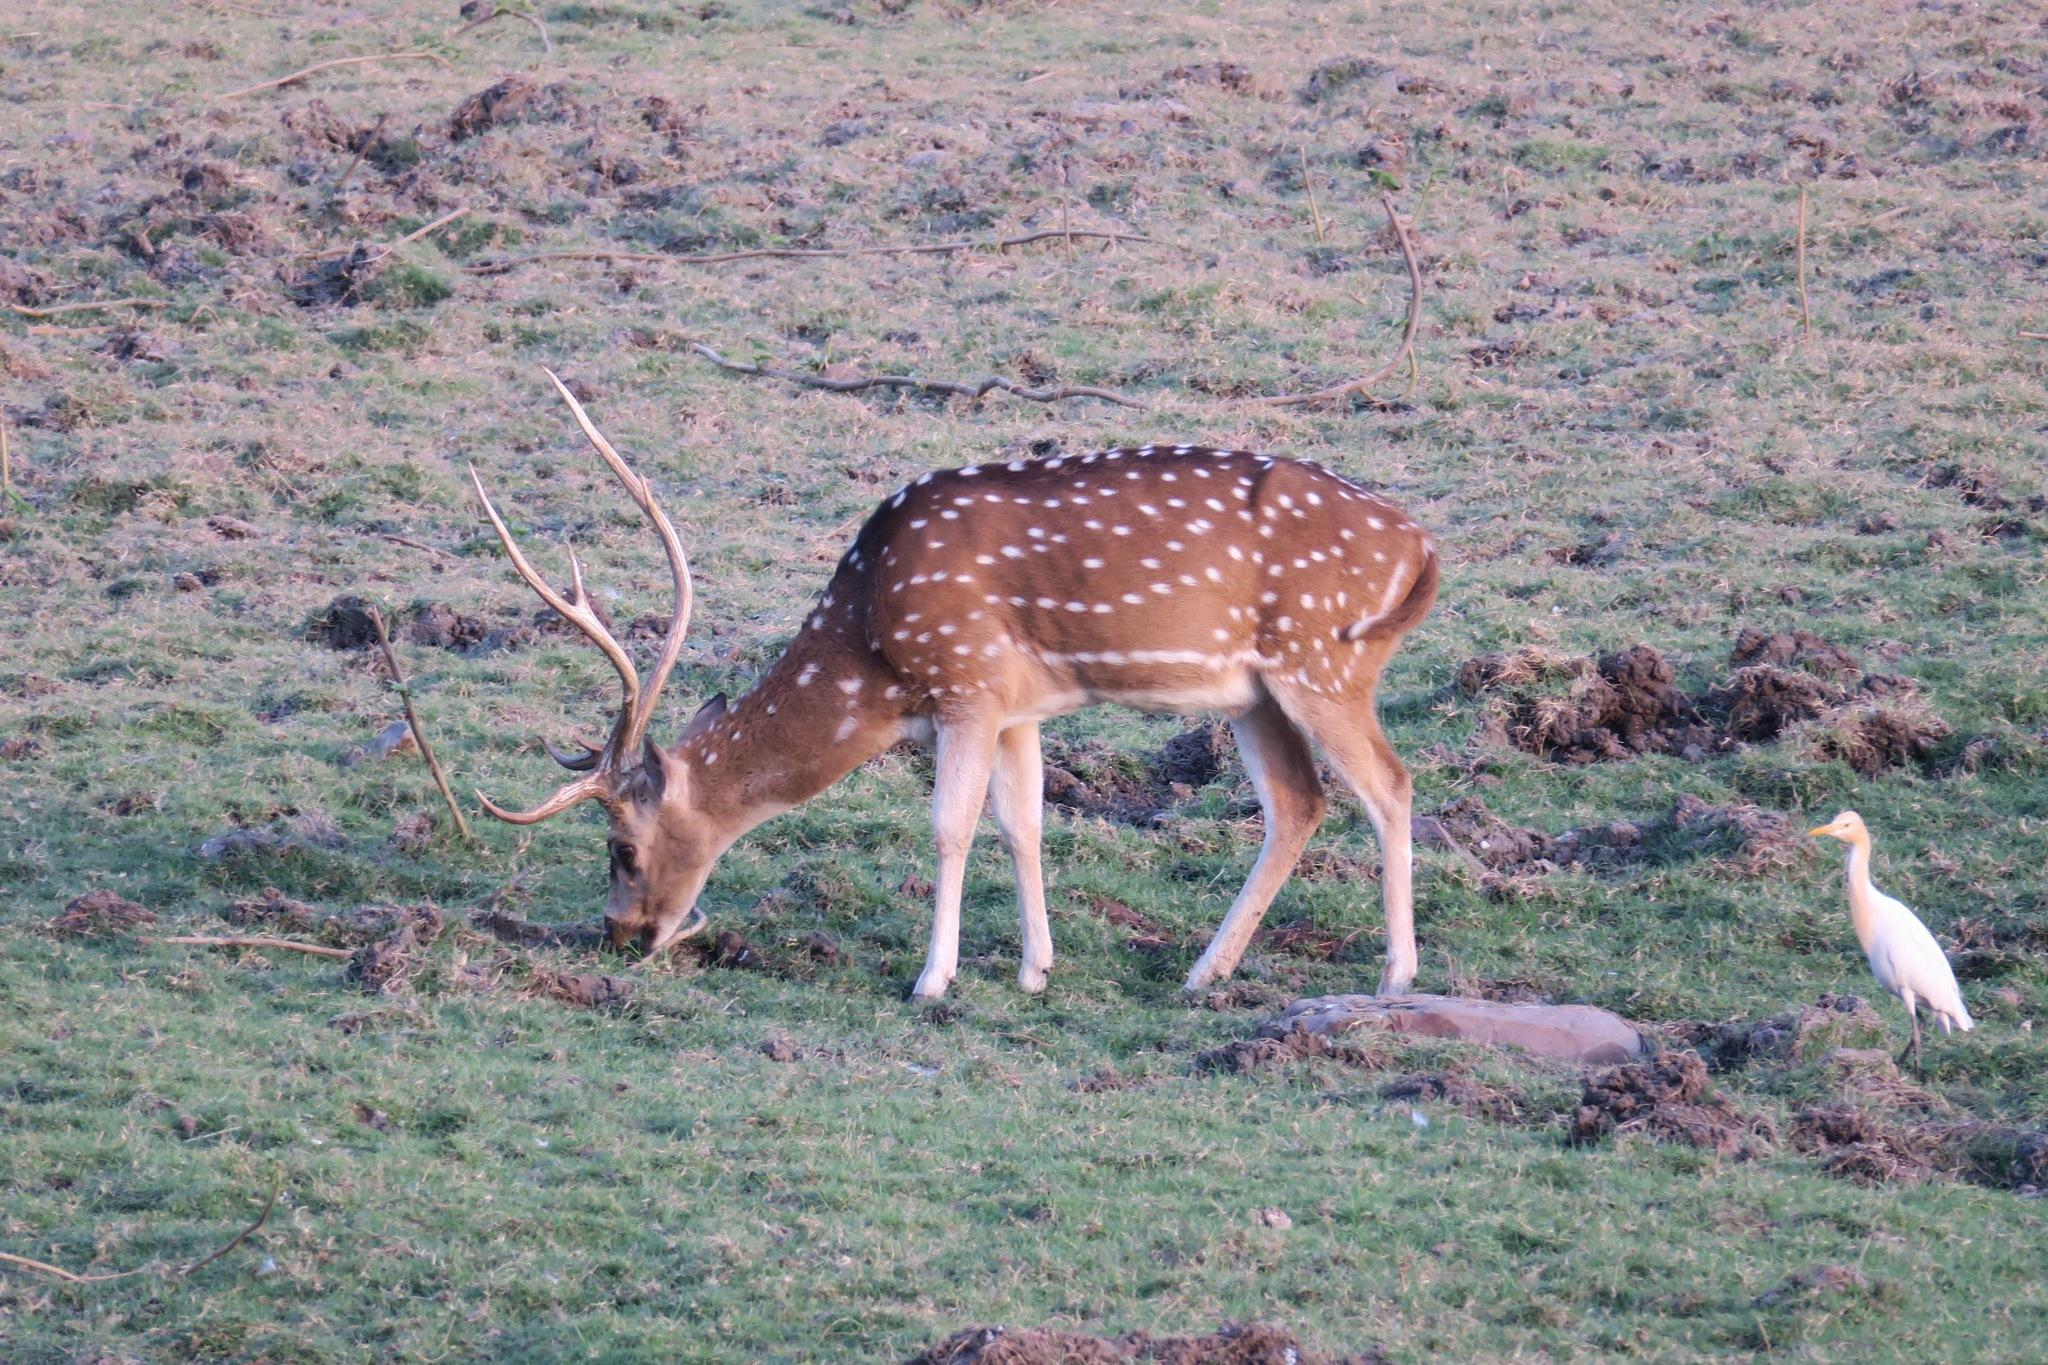Deer: (480, 369, 1439, 999)
